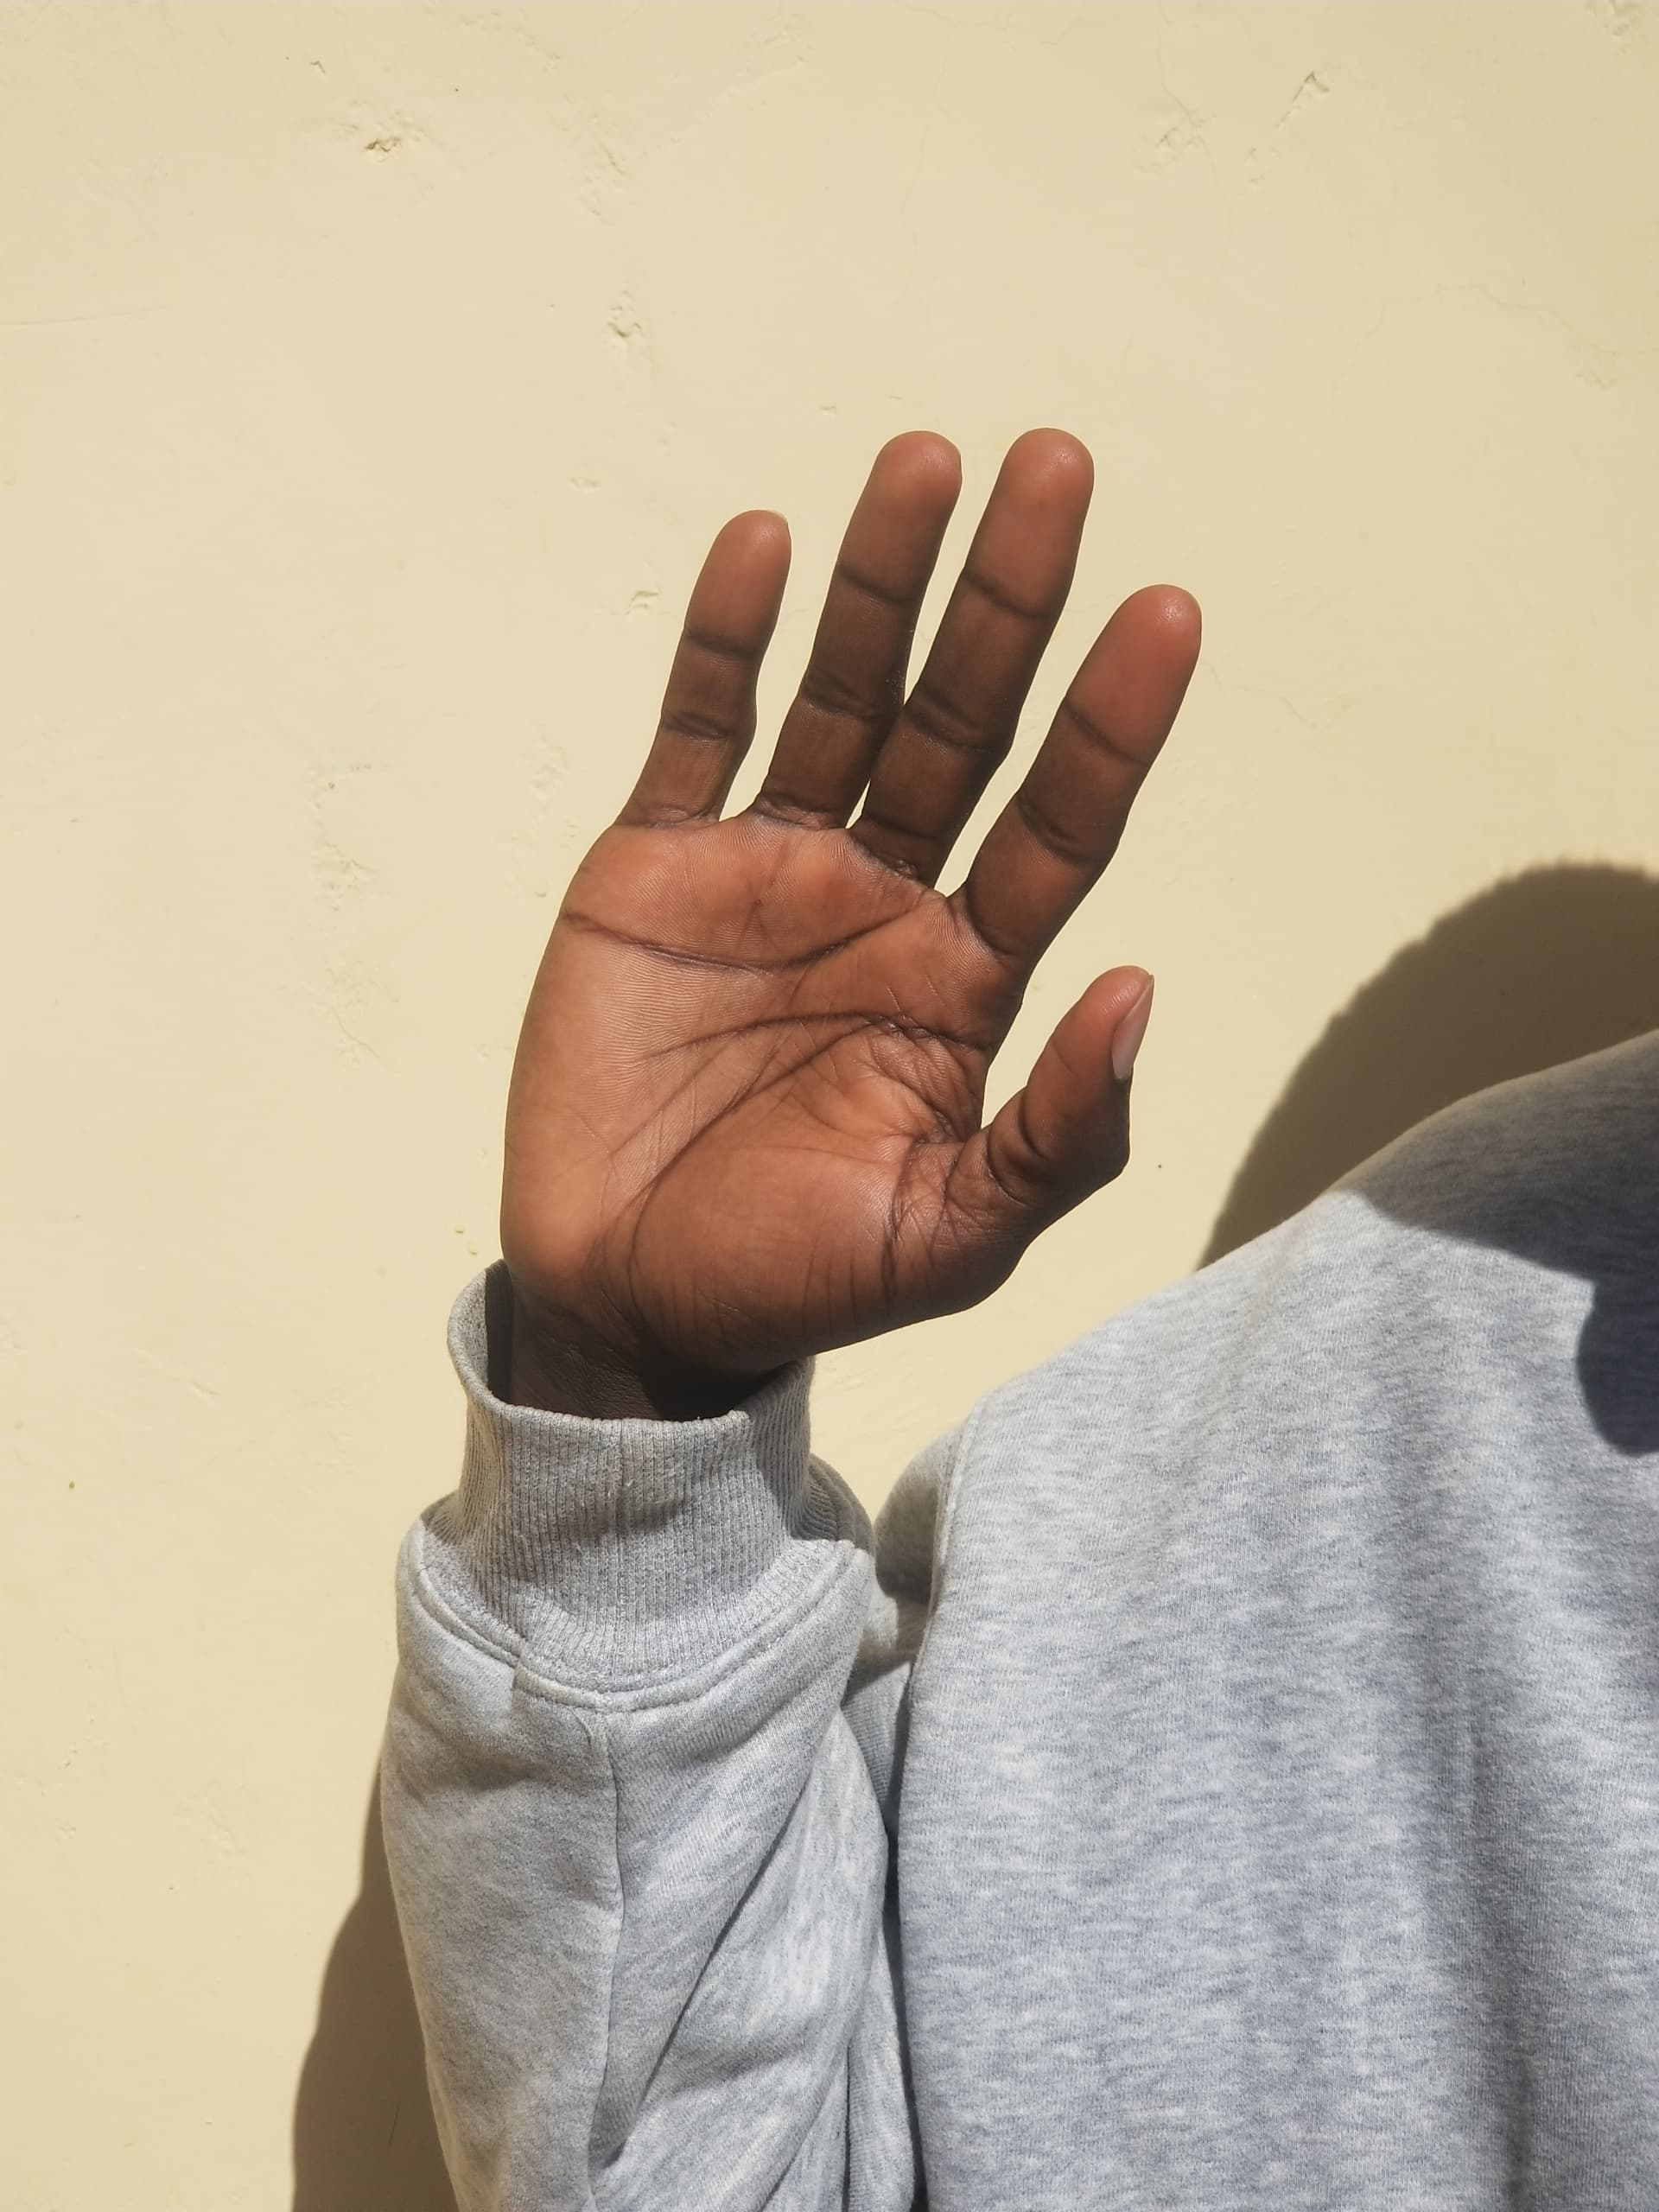hello: (451, 350, 1258, 1487)
